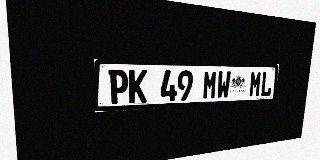4: (160, 70, 177, 102)
9: (177, 70, 193, 101)
K: (129, 70, 147, 103)
L: (260, 71, 273, 97)
M: (202, 71, 218, 100), (248, 71, 262, 97)
P: (108, 69, 128, 104)
W: (216, 71, 231, 99)
